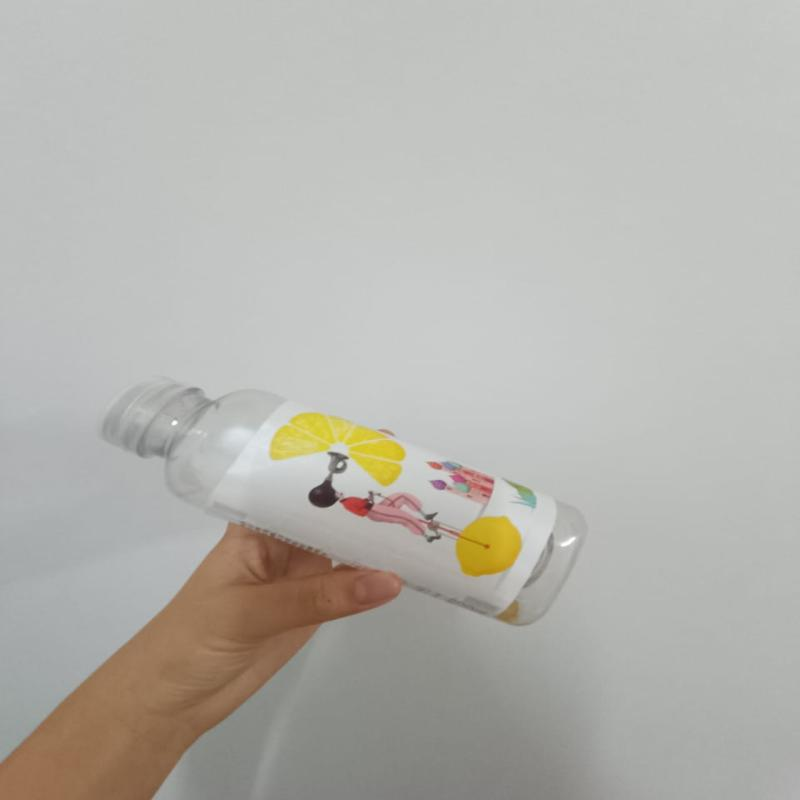botella: (90, 370, 590, 632)
